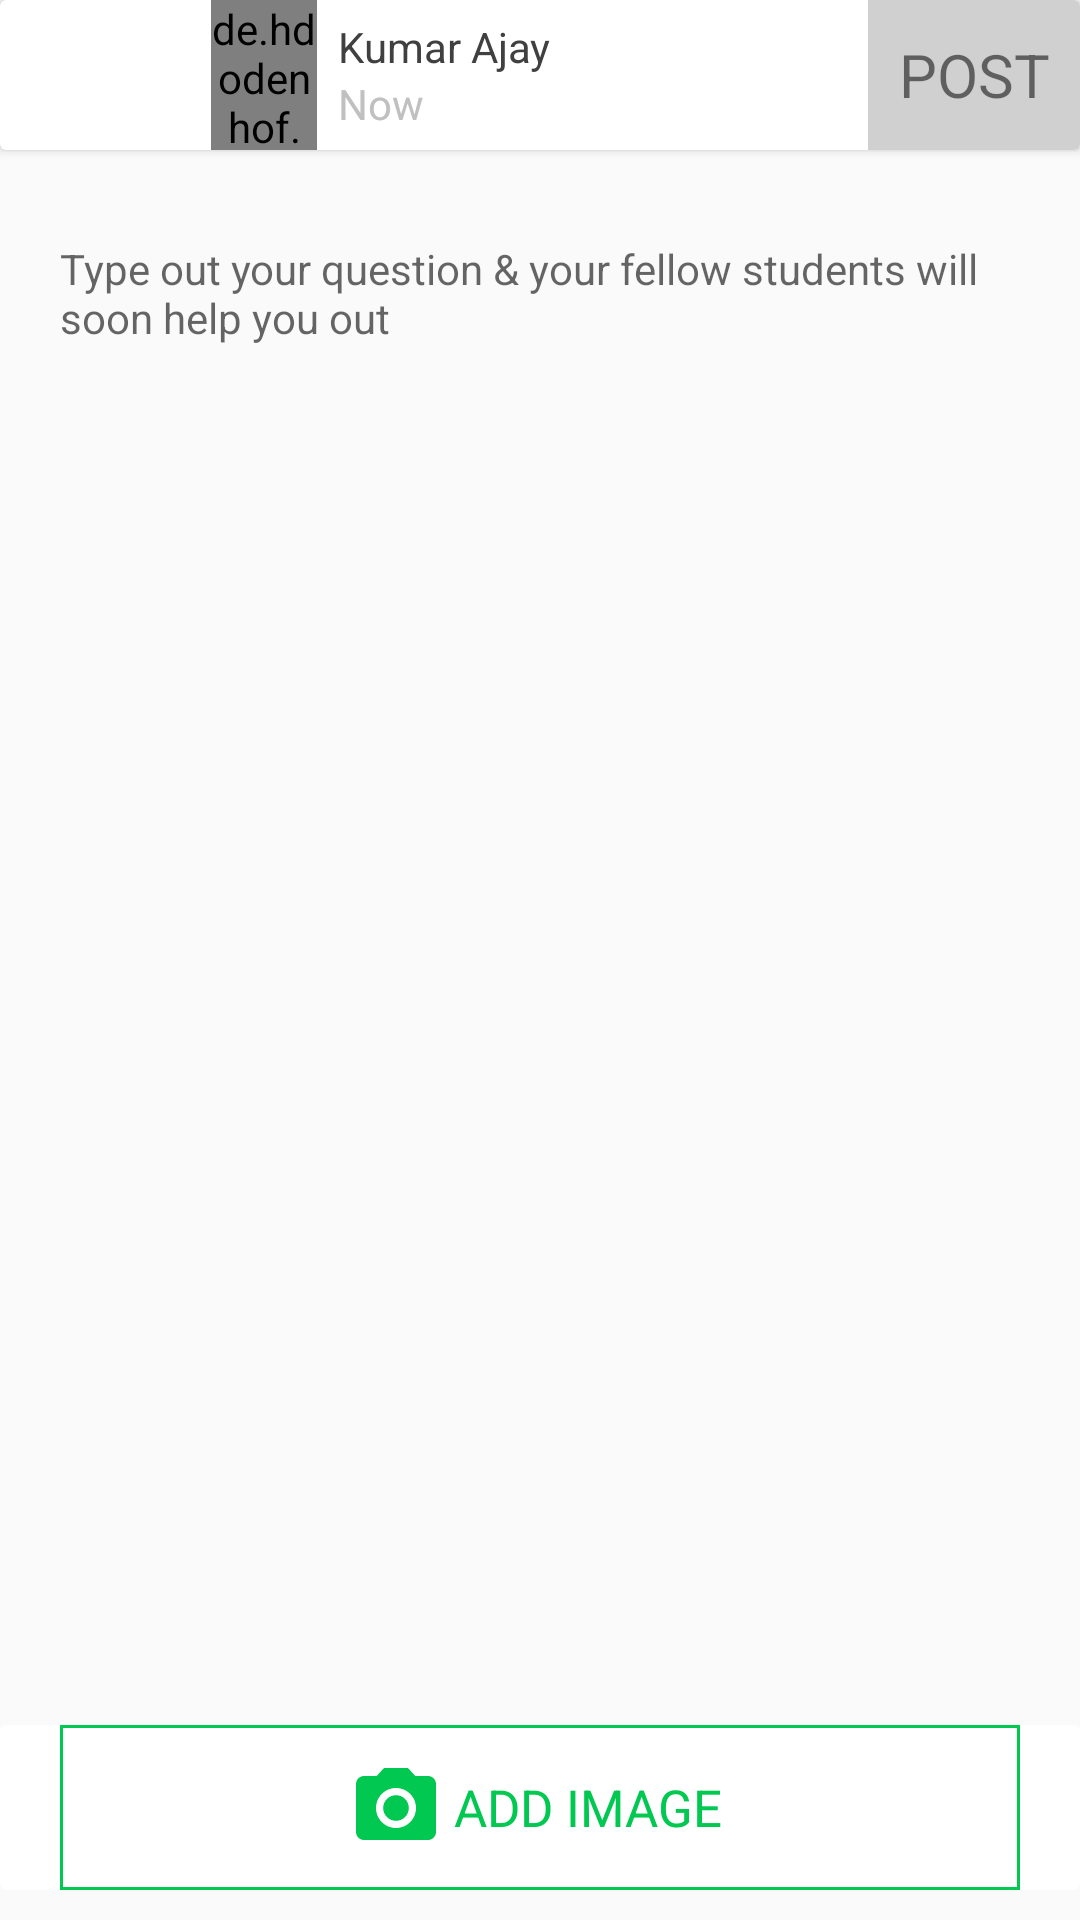

Screen size 1080px×1920px. Icon name, then its center in pixels as point (x, y):
photo camera: point (396, 1804)
